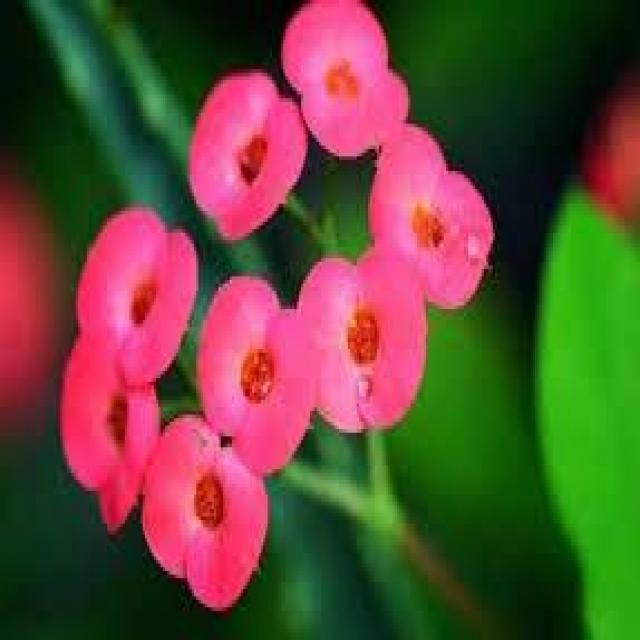organic waste: (173, 236, 322, 494), (60, 178, 210, 411), (292, 238, 448, 449), (364, 127, 503, 309), (148, 416, 273, 613), (271, 0, 420, 164), (52, 329, 173, 529), (178, 89, 324, 224)
